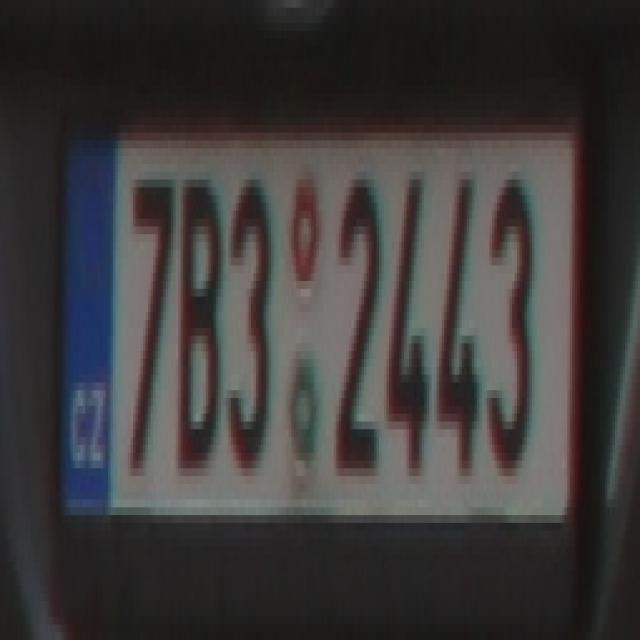2: (332, 172, 382, 476)
3: (480, 156, 534, 468), (224, 180, 274, 468)
4: (384, 172, 434, 492), (437, 172, 484, 492)
7: (126, 172, 168, 476)
B: (171, 172, 218, 476)
